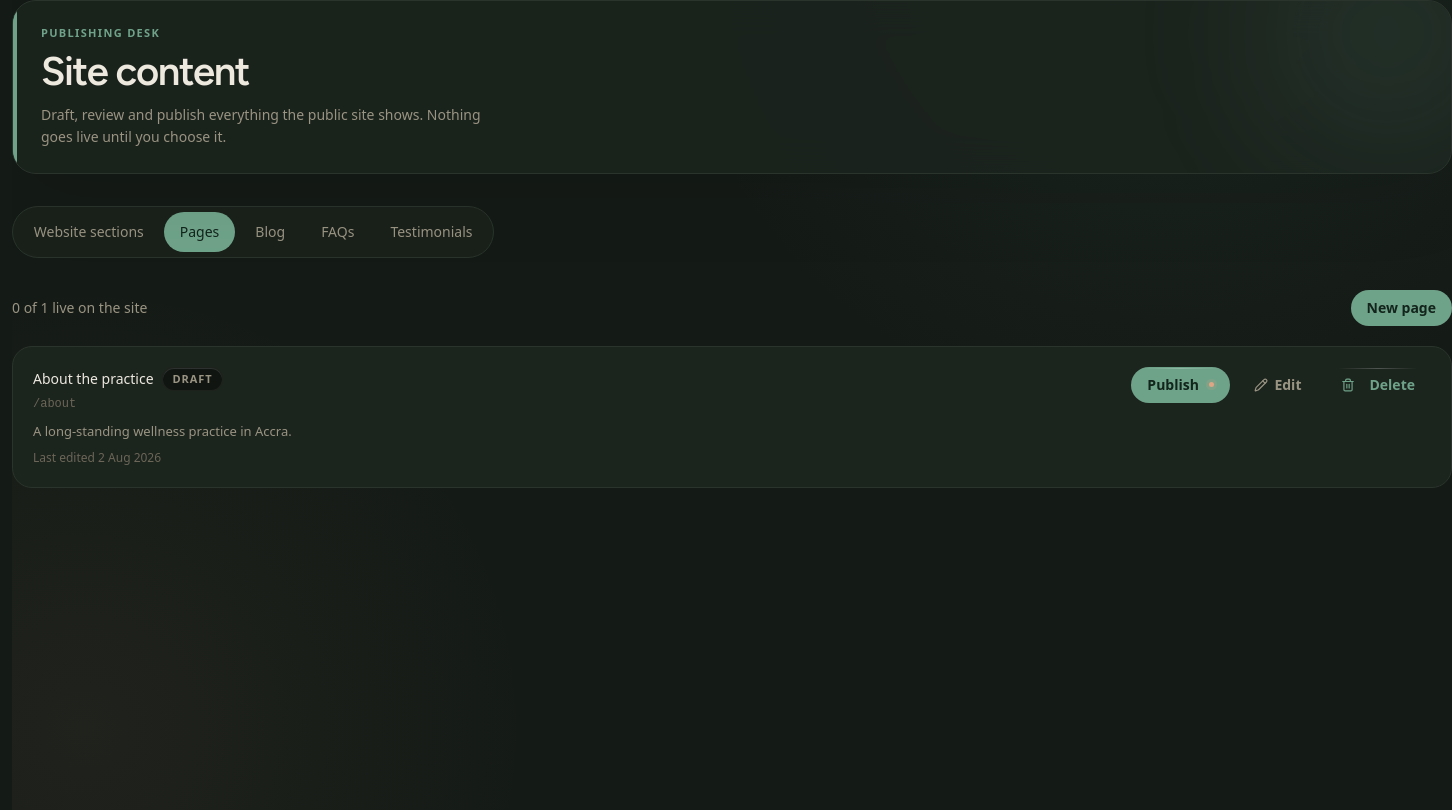
Test: ContentPage › publishes a draft page through its own route, not a save
The image size is (1452, 810).
Check: the heading "About the practice" is shown, box [33,369,154,389]
Click the button "Publish". click: (1181, 385)
box: [1131,367,1230,403]
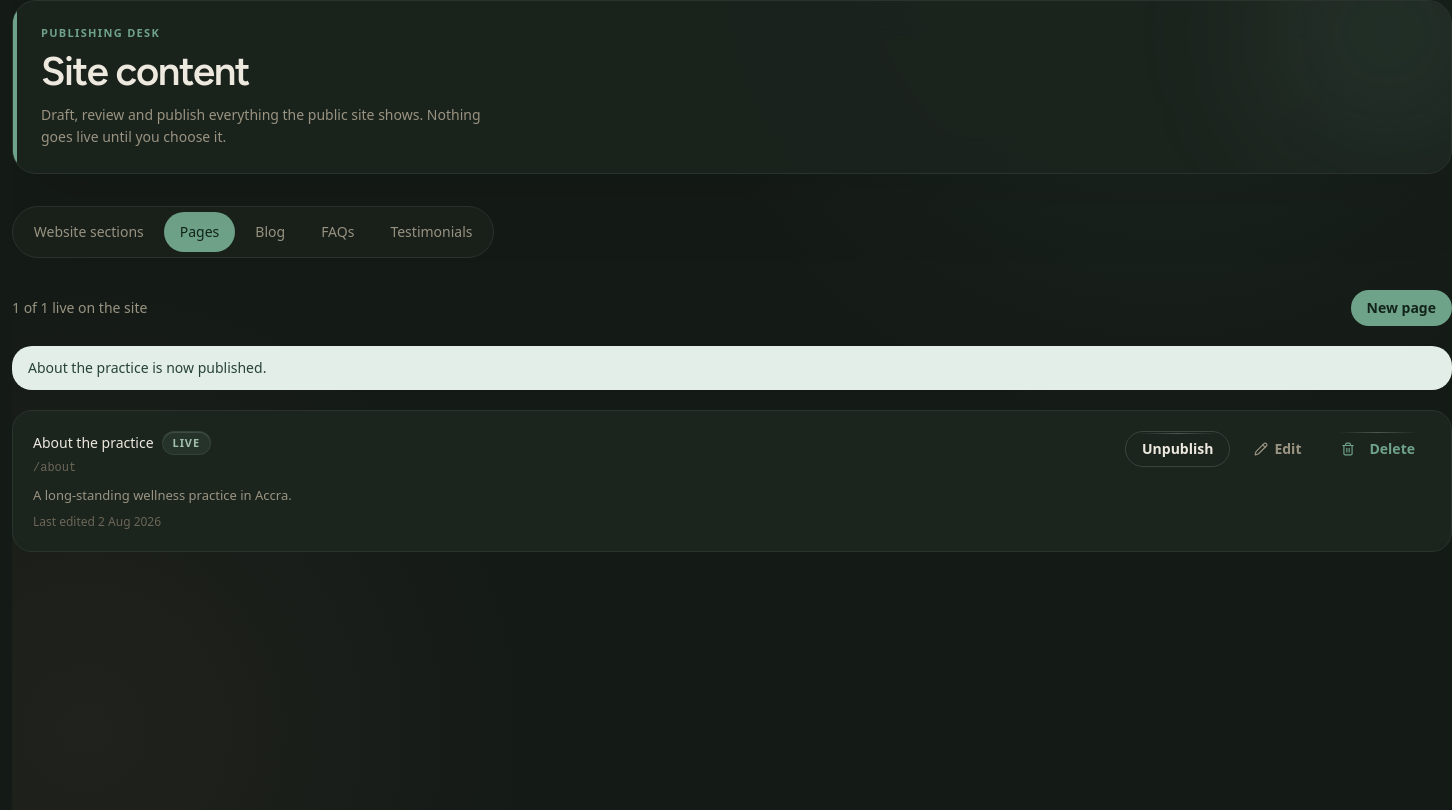
Check: the text "Live" is shown, box [162,431,211,455]
